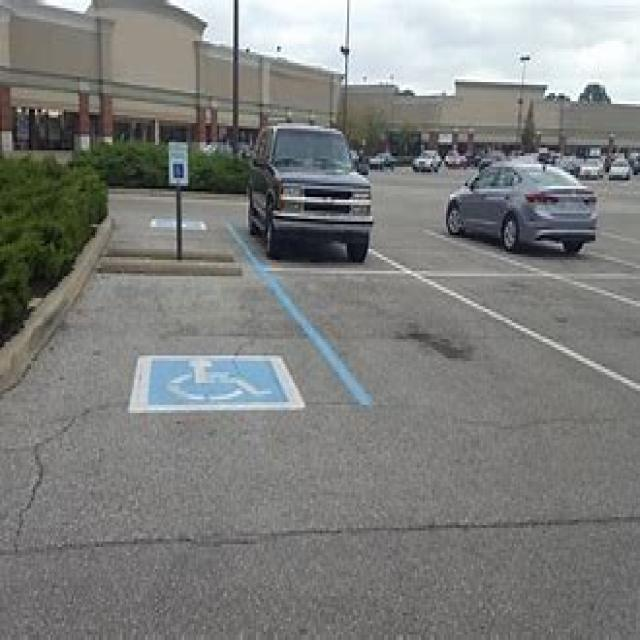car-handicap-placard: (164, 358, 274, 402), (175, 164, 187, 178)
